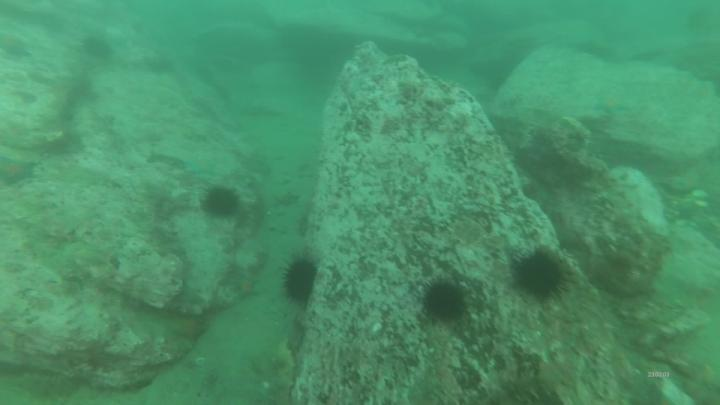echinus: (516, 256, 561, 298), (426, 282, 468, 323), (285, 259, 315, 304), (201, 191, 237, 215), (81, 36, 113, 61)
holothurian: (273, 341, 296, 390)
starfish: (3, 161, 36, 184), (178, 319, 204, 343), (236, 277, 259, 299)
